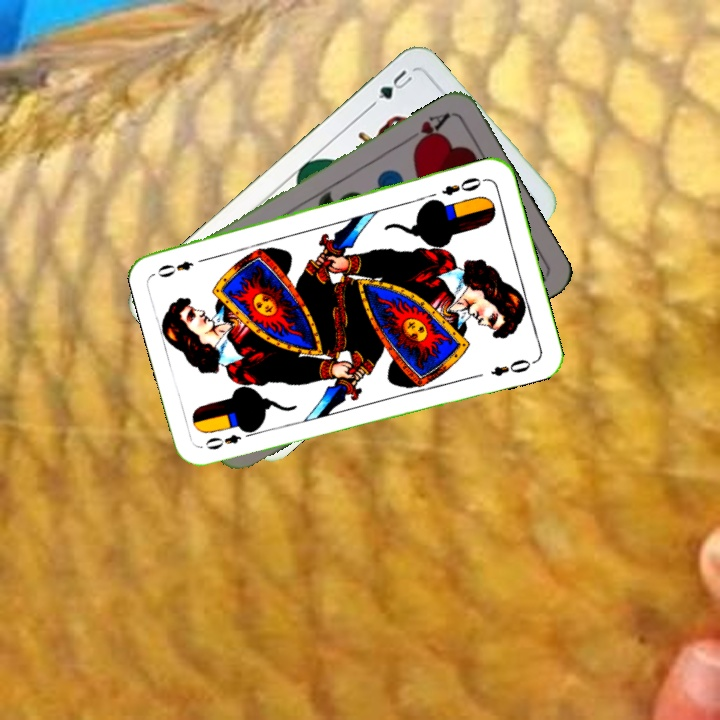EO: (201, 424, 257, 453), (437, 173, 489, 198)
GU: (367, 65, 415, 109)
HA: (401, 108, 453, 151)
